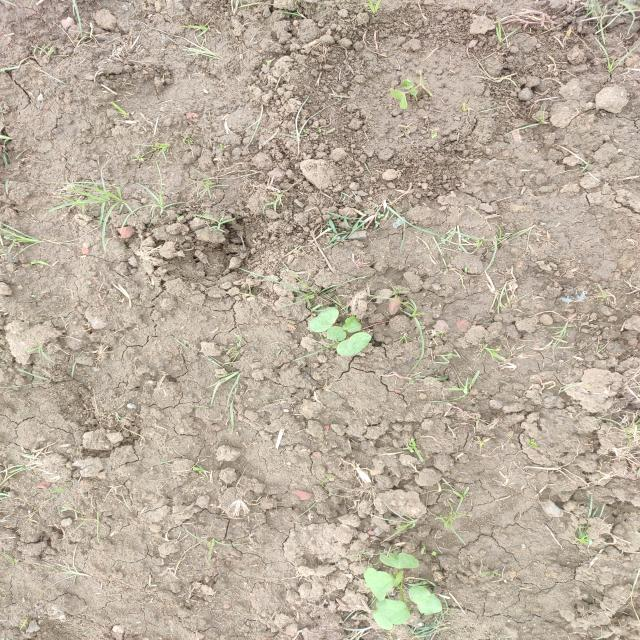seedling: (408, 586, 442, 615), (376, 598, 410, 624), (336, 332, 371, 356), (310, 307, 339, 332), (365, 572, 395, 593), (380, 553, 419, 569), (373, 609, 393, 630), (342, 315, 362, 333), (390, 88, 407, 109), (325, 326, 347, 341), (402, 80, 414, 89), (410, 88, 418, 96)
